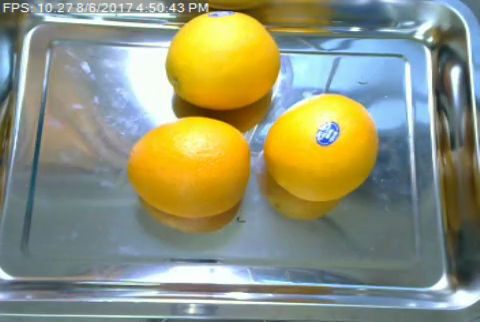Orange: (127, 116, 250, 218), (265, 92, 379, 202), (165, 11, 279, 108)
